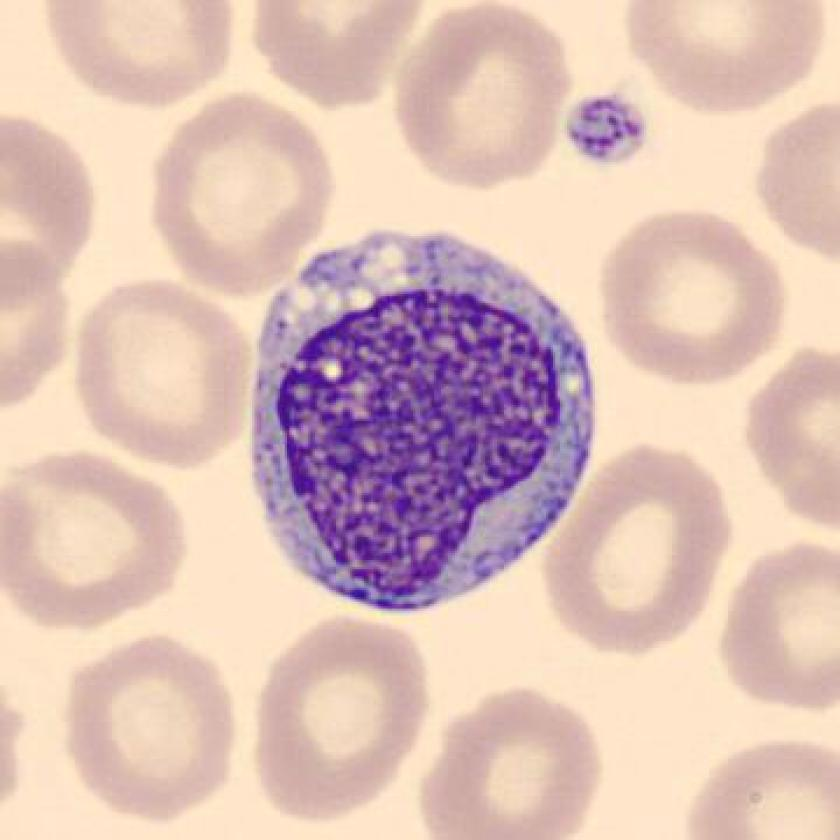monocyte: (227, 214, 622, 633)
